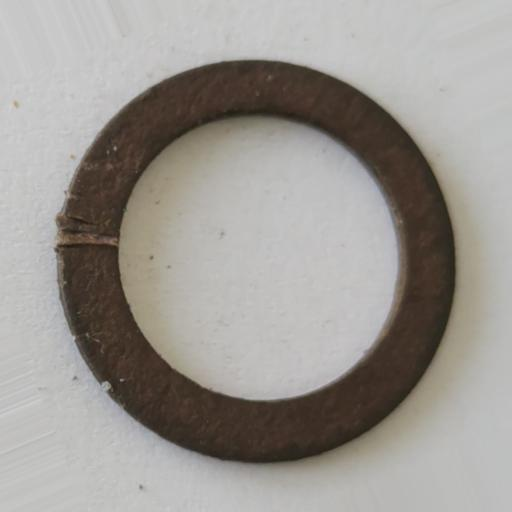defect: (54, 214, 120, 250)
